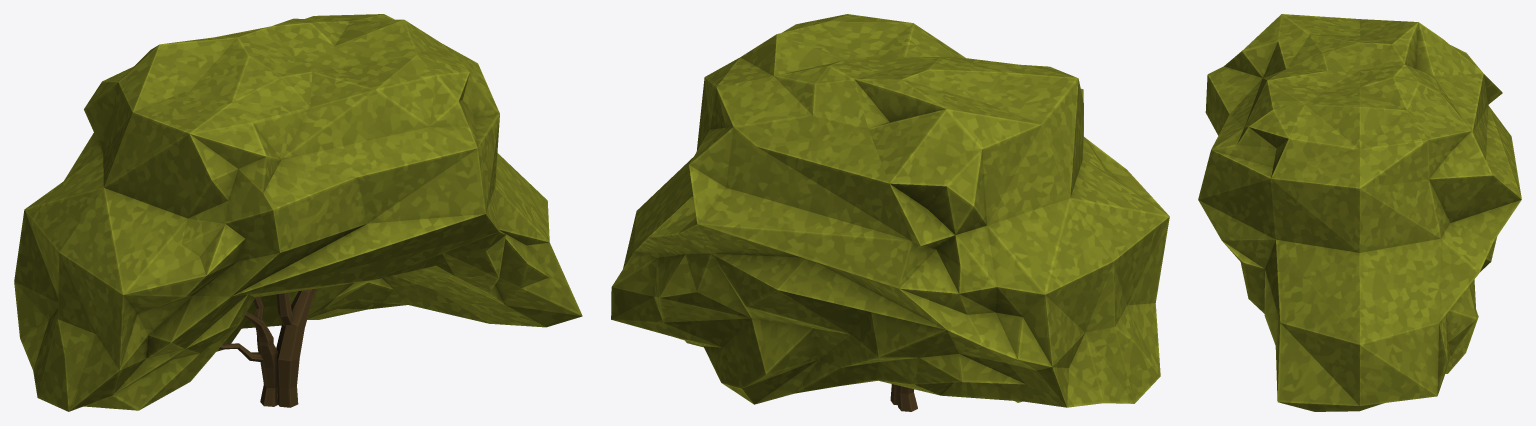
The picture shows the model from 3 angles, left to right: view 1: azimuth 30°, elevation 25°; view 2: azimuth 150°, elevation 25°; view 3: azimuth 270°, elevation 25°; orthographic projection. The views are drawn at different scales.
Parts seen in each view (by area): view 1: BeechTree_mesh; view 2: BeechTree_mesh; view 3: BeechTree_mesh.
Boxes of the visible parts, x1,y1,x2,y2 form: BeechTree_mesh: (14, 14, 582, 411); BeechTree_mesh: (611, 14, 1169, 411); BeechTree_mesh: (1198, 14, 1521, 411).
Size of the model in its own units: 13.97 by 9.23 by 9.21.
1 material, 1 textured.
